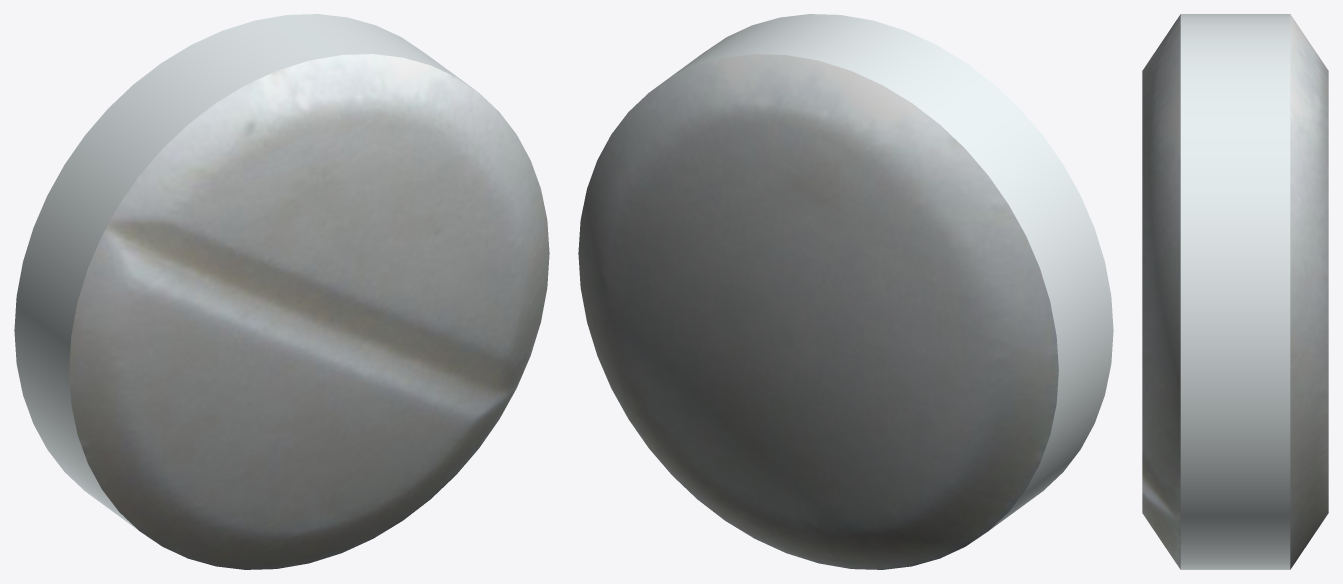
File: 20180111GOPHDRGPT28925.fbx
3 views of the same model, side by side, from view 1: azimuth 30°, elevation 25°; view 2: azimuth 150°, elevation 25°; view 3: azimuth 270°, elevation 25° (orthographic).
Visible parts, largest first — view 1: 貝茲圓.002; view 2: 貝茲圓.002; view 3: 貝茲圓.002.
Part boxes in pixels (x1,y1,x2,y2): 貝茲圓.002: (14, 14, 549, 569); 貝茲圓.002: (578, 14, 1113, 569); 貝茲圓.002: (1142, 14, 1328, 569).
Size of the model in its own units: 73.43 by 73.43 by 24.6.
